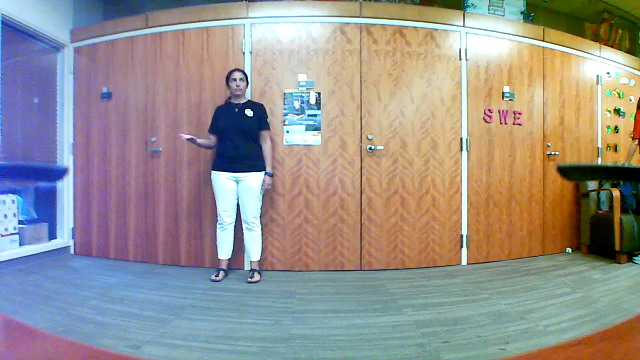land: (175, 130, 202, 144)
